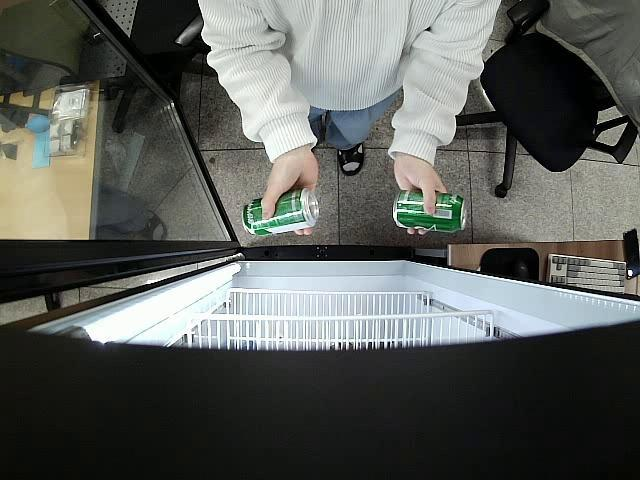12_chilsungCider: (240, 188, 320, 237), (392, 188, 468, 233)
